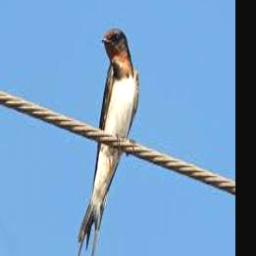Swallow: (77, 28, 139, 256)
